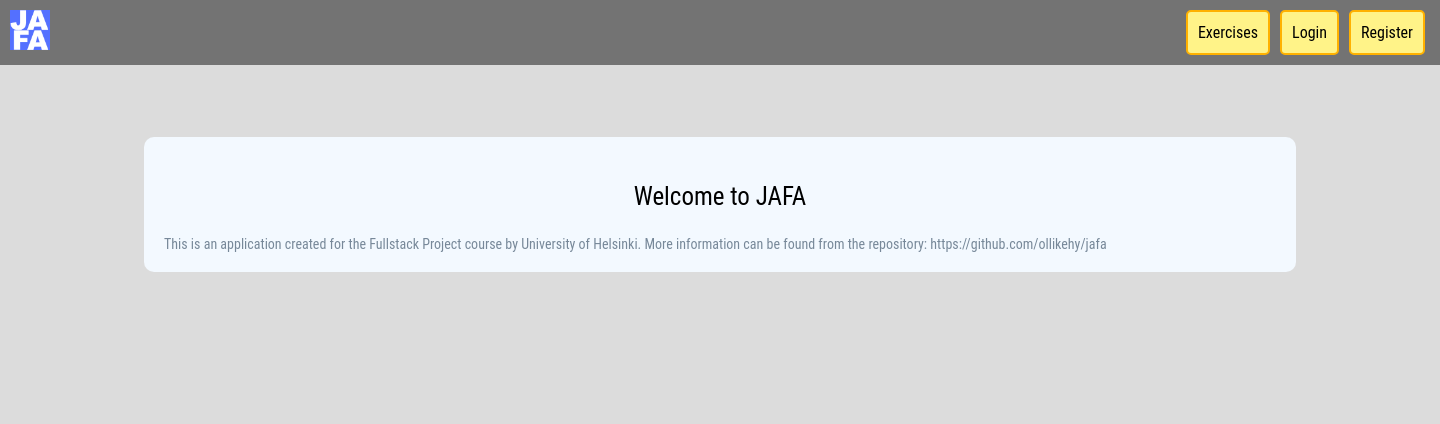
it: JAFA › frontpage can be reached through header title
Click the link "Register": (1387, 33) [1349,10,1425,55]
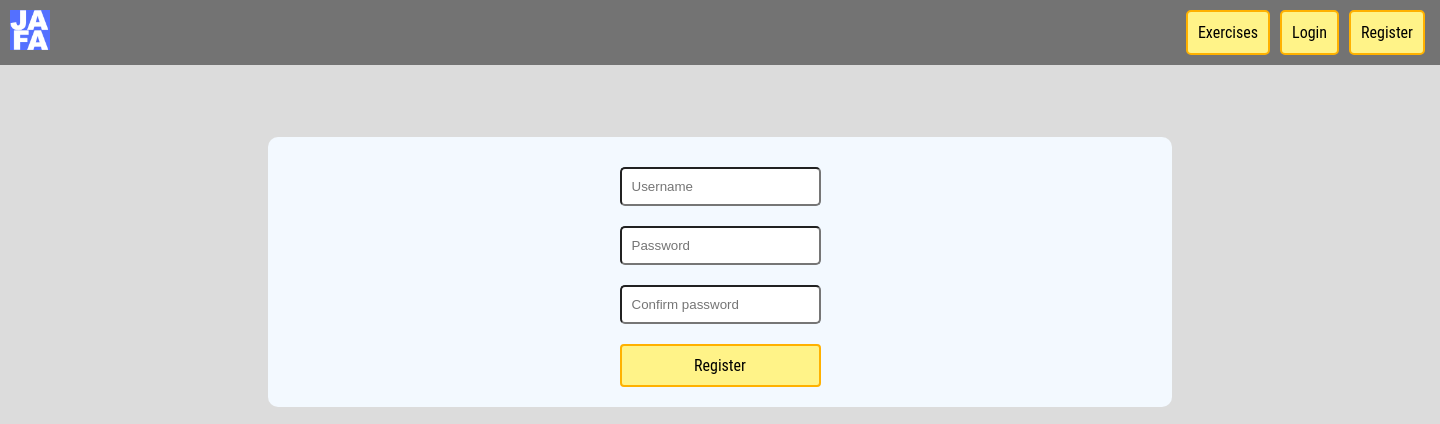
Click the link with id "header-icon": (30, 28) [10,10,50,46]
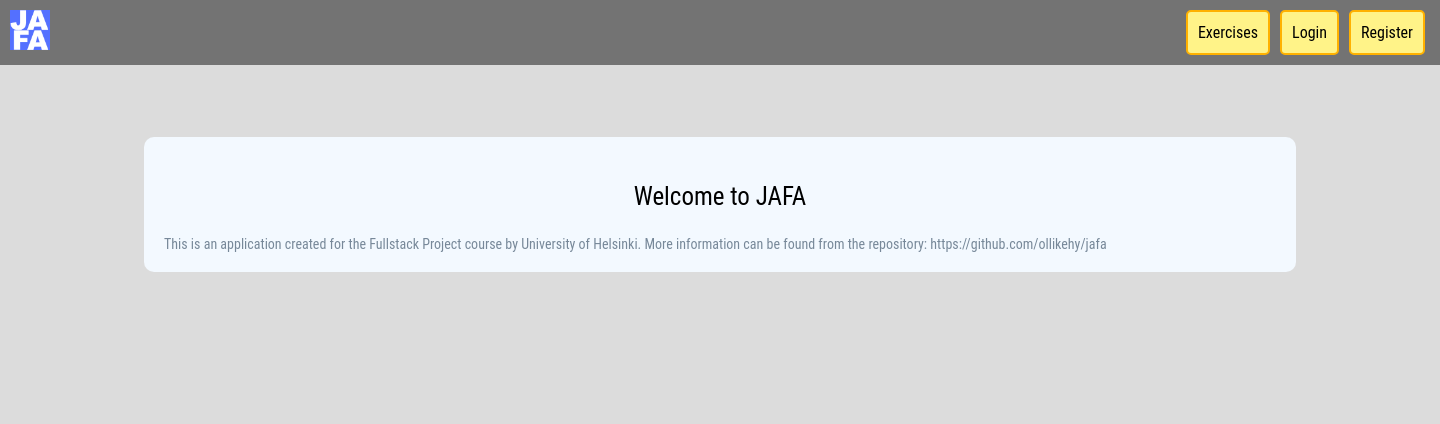
Result: the text "Welcome to JAFA" is shown at [634,182,806,211]
